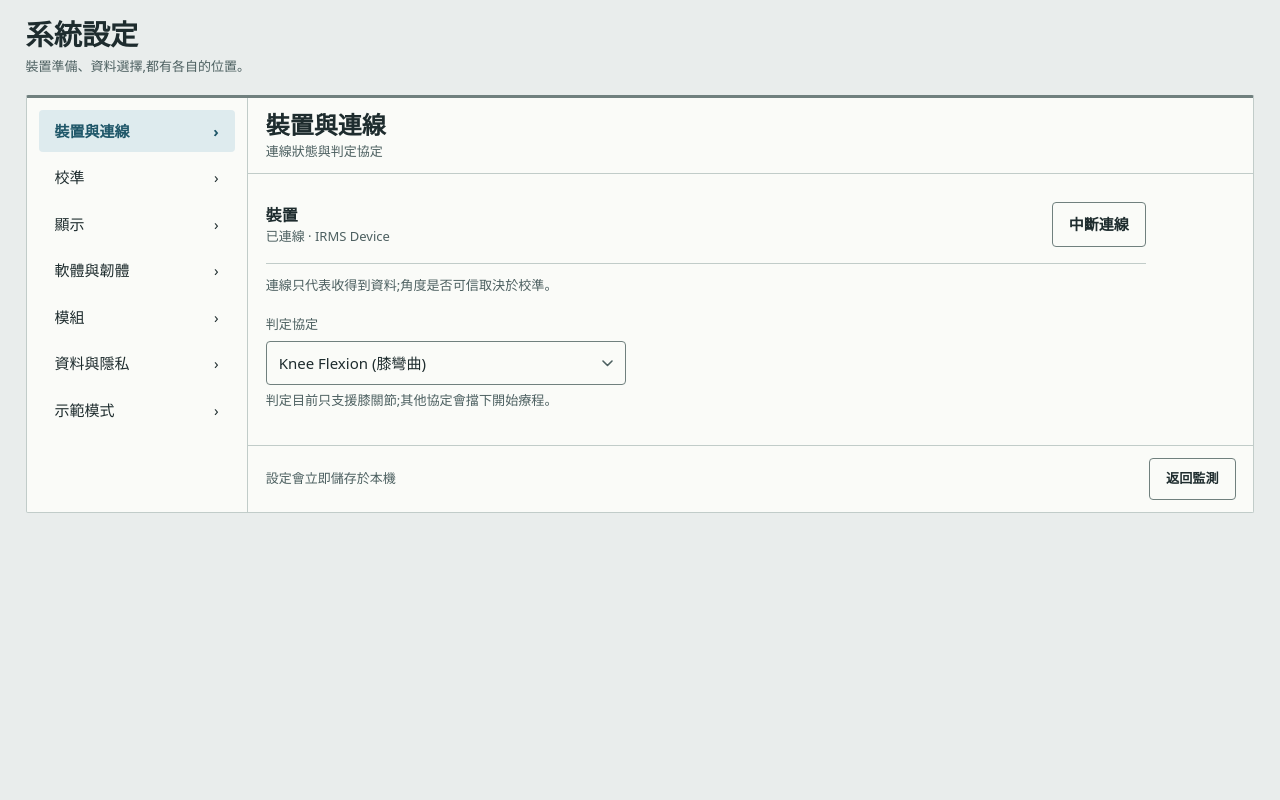
Test: SettingsView 韌體 OTA 面板:選檔與開始更新 › 選檔後顯示檔名/大小/MD5,未選檔前「開始更新」停用
Click the button "軟體與韌體 ›".
click(137, 270)  # box [39,249,235,292]
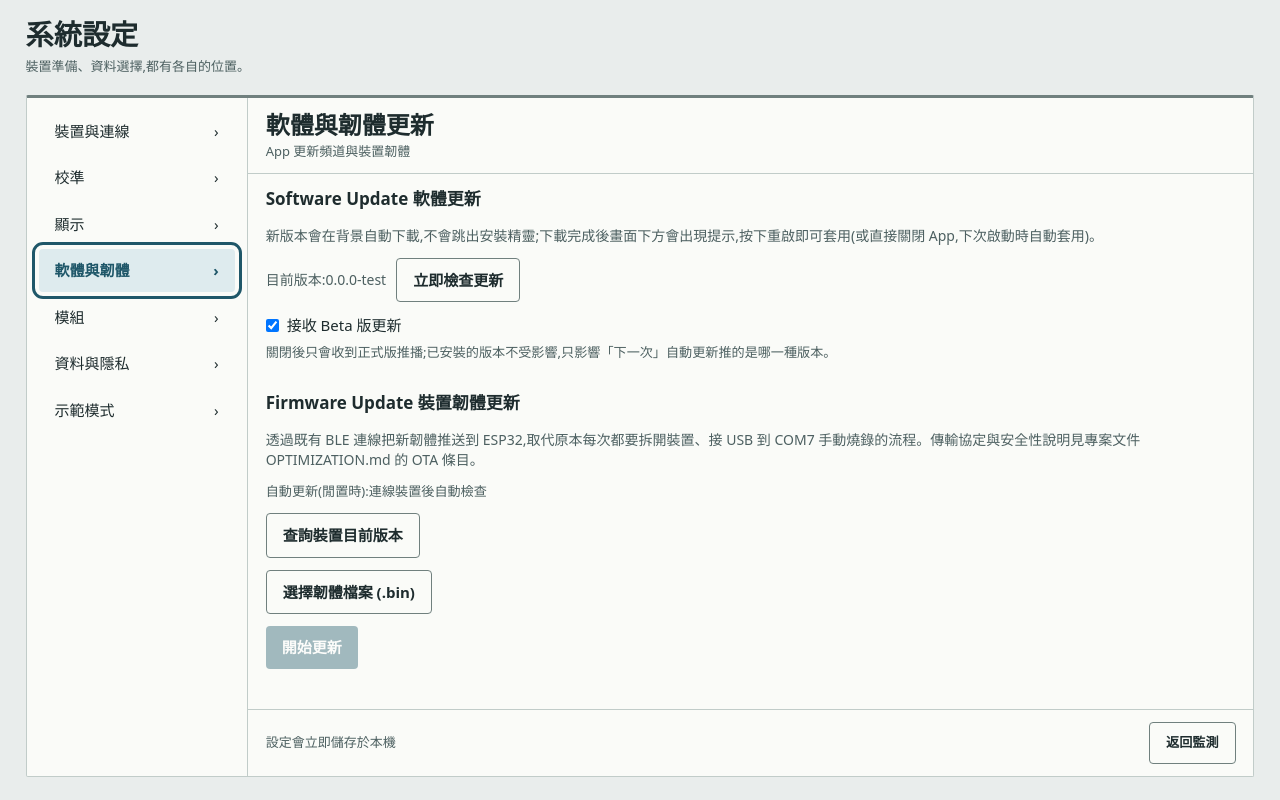
Expected: the button "開始更新" is disabled, [266,626,358,669]
Click the button "選擇韌體檔案 (.bin)".
click(349, 592)  # box [266,570,432,614]
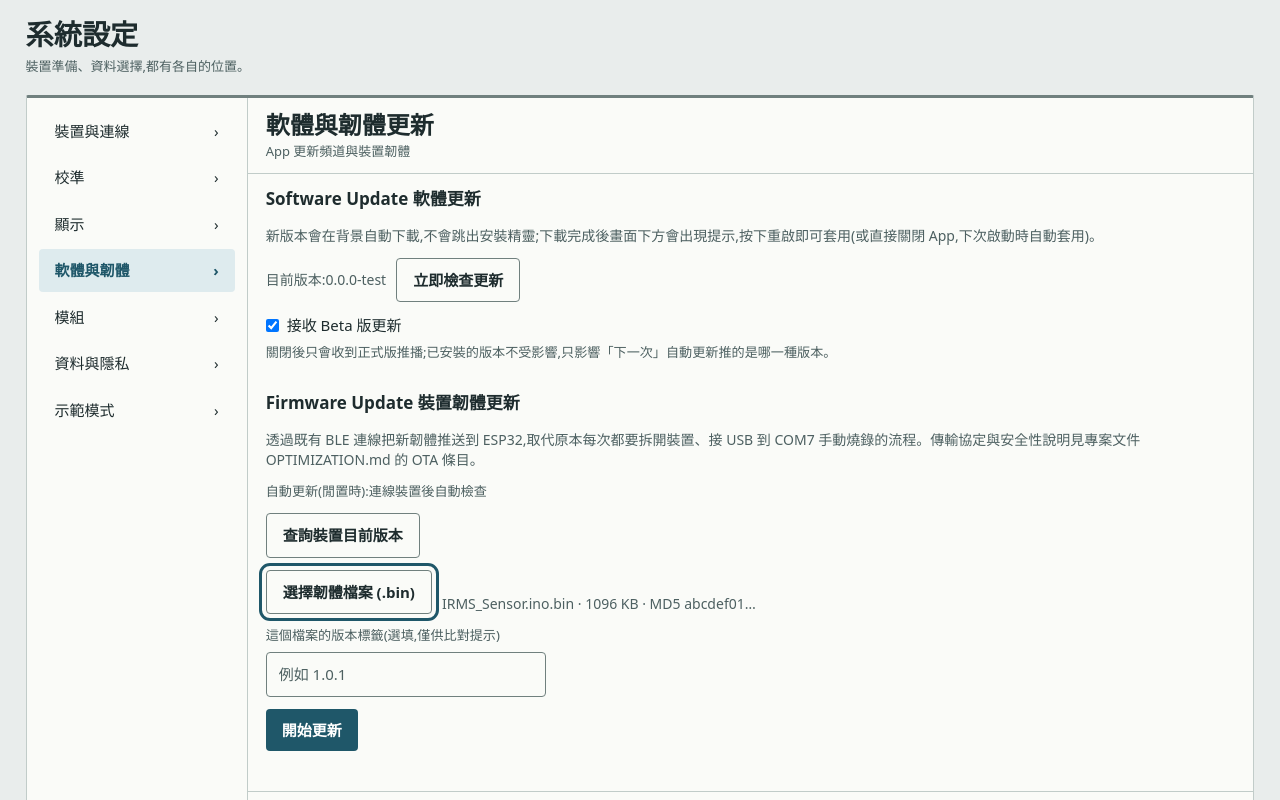
Expected: the text "IRMS_Sensor.ino.bin · 1096 KB · MD5 abcdef01…" is shown, [442,594,756,614]
Expected: the button "開始更新" is enabled, [266,709,358,751]
